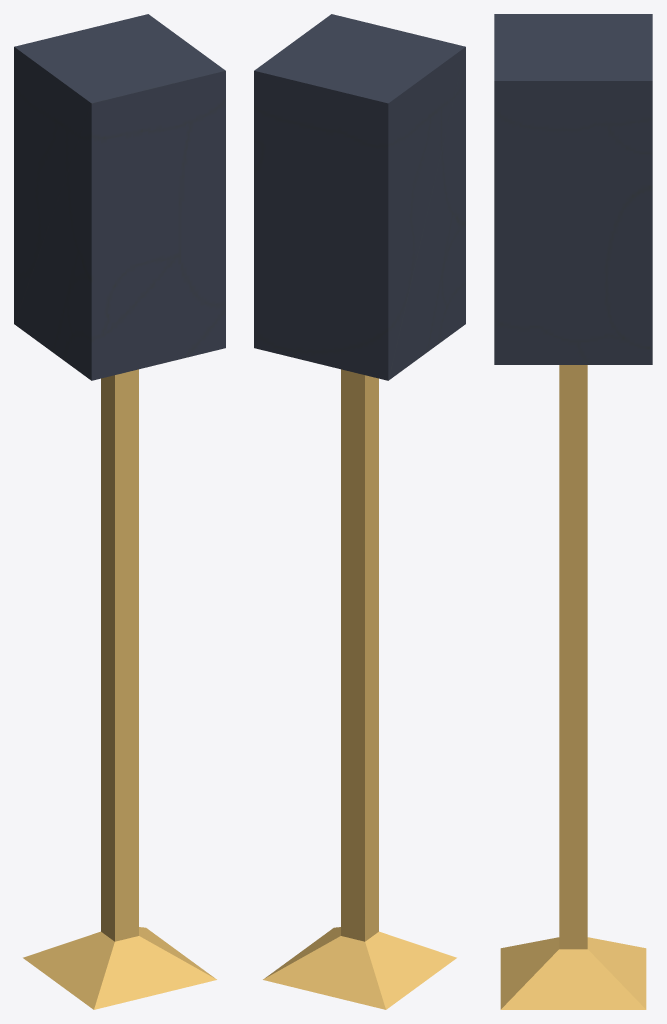
The model's file is Lamp.FBX.
3 views of the same model, side by side, from view 1: azimuth 30°, elevation 25°; view 2: azimuth 150°, elevation 25°; view 3: azimuth 270°, elevation 25° (orthographic). The views are drawn at different scales.
Parts seen in each view (by area): view 1: node_id4; view 2: node_id4; view 3: node_id4.
Part boxes in pixels (box(x1,y1,x2,y2)): node_id4: box(14, 14, 225, 1009); node_id4: box(254, 14, 465, 1009); node_id4: box(494, 14, 652, 1009).
Bounding box in the file's own units: 0.079 × 0.512 × 0.079.
1 material, 1 textured.
